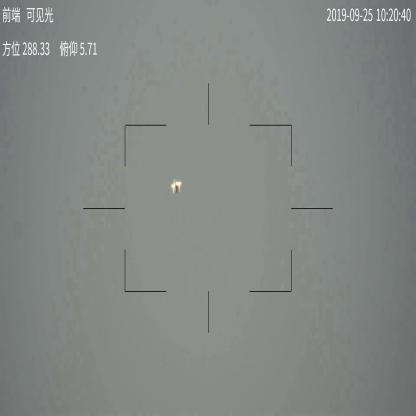uav: (168, 177, 183, 195)
